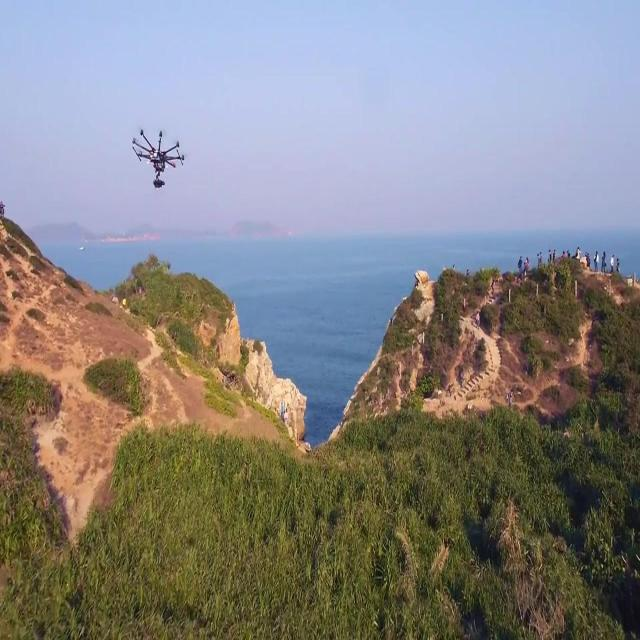drone: (130, 126, 186, 192)
